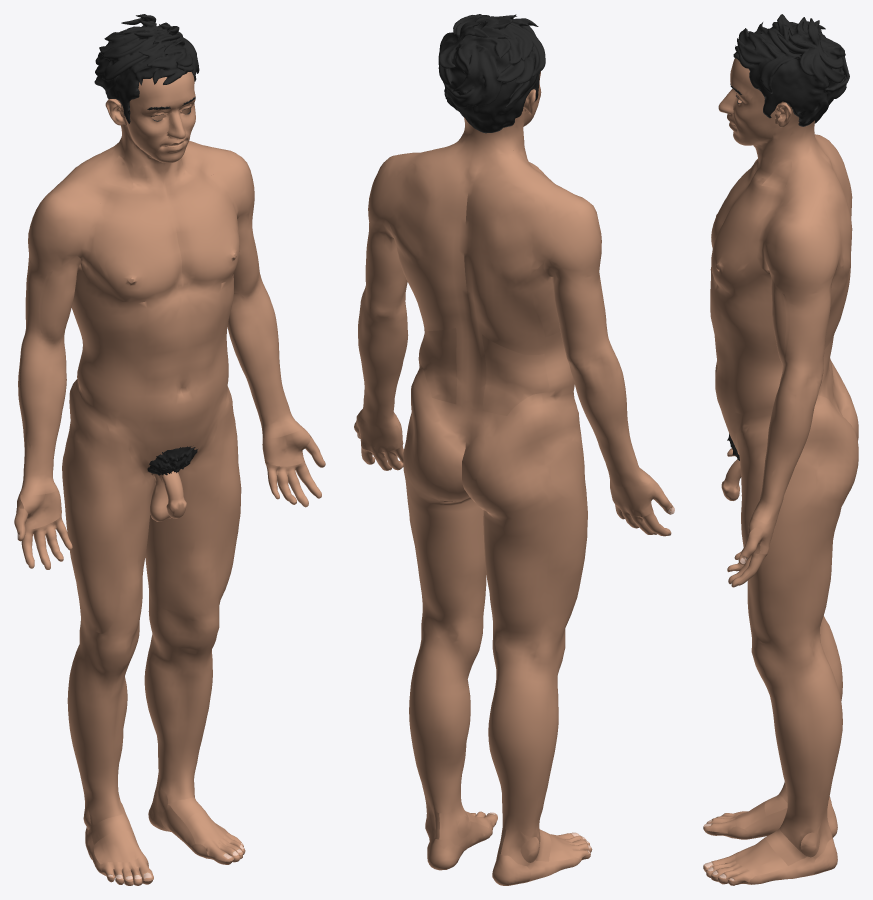
Rendered from z-anatomy-regions.glb.
3 views of the same model, side by side, from view 1: azimuth 30°, elevation 25°; view 2: azimuth 150°, elevation 25°; view 3: azimuth 270°, elevation 25° (orthographic). The views are drawn at different scales.
Parts seen in each view (by area): view 1: Anterior region of thigh.r.001, Anterior region of thigh.l.001, Hairs of head.001, Anterior region of leg.l.001, Anterior region of leg.r.001, Pectoral region.r.001, Deltoid region.r.001, Anterior region of forearm.l.001, Anterior region of forearm.r.001, Lateral region of thorax.r.001, Lateral region of abdomen.r.001, Pectoral region.l.001 (+46 smaller); view 2: Posterior region of thigh.r.001, Hairs of head.001, Gluteal region.r.001, Posterior region of thigh.l.001, Posterior region of leg.r.001, Posterior region of leg.l.001, Gluteal region.l.001, Scapular region.r.001, Posterior region of arm.r.001, Infrascapular region.r.001, Scapular region.l.001, Posterior region of forearm.r.001 (+32 smaller); view 3: Hairs of head.001, Anterior region of thigh.l.001, Posterior region of thigh.l.001, Deltoid region.l.001, Gluteal region.l.001, Posterior region of leg.l.001, Lateral region of thorax.l.001, Anterior region of leg.l.001, Lateral region of abdomen.l.001, Pectoral region.l.001, Posterior region of arm.l.001, Posterior region of neck.l.001 (+45 smaller).
Part boxes in pixels (x1,y1,x2,y2): Anterior region of thigh.r.001: (69, 382, 154, 636); Anterior region of thigh.l.001: (150, 383, 241, 615); Hairs of head.001: (94, 14, 199, 123); Anterior region of leg.l.001: (153, 654, 212, 780); Anterior region of leg.r.001: (74, 673, 127, 799); Pectoral region.r.001: (94, 205, 174, 302); Deltoid region.r.001: (28, 174, 90, 271); Anterior region of forearm.l.001: (228, 304, 292, 425); Anterior region of forearm.r.001: (22, 360, 66, 481); Lateral region of thorax.r.001: (71, 225, 147, 333); Lateral region of abdomen.r.001: (77, 342, 147, 422); Pectoral region.l.001: (183, 179, 238, 284); Posterior region of thigh.r.001: (483, 496, 579, 640); Hairs of head.001: (438, 14, 545, 133); Gluteal region.r.001: (462, 392, 567, 518); Posterior region of thigh.l.001: (404, 472, 485, 624); Posterior region of leg.r.001: (488, 688, 555, 830); Posterior region of leg.l.001: (409, 667, 468, 813); Gluteal region.l.001: (403, 360, 470, 501); Scapular region.r.001: (486, 191, 559, 287); Posterior region of arm.r.001: (543, 242, 606, 348); Infrascapular region.r.001: (475, 274, 545, 354); Scapular region.l.001: (379, 164, 436, 266); Posterior region of forearm.r.001: (570, 368, 640, 475); Hairs of head.001: (733, 14, 849, 126); Anterior region of thigh.l.001: (738, 407, 787, 646); Posterior region of thigh.l.001: (783, 506, 841, 645); Deltoid region.l.001: (763, 197, 834, 297); Gluteal region.l.001: (798, 395, 858, 509); Posterior region of leg.l.001: (798, 679, 842, 822); Lateral region of thorax.l.001: (715, 229, 846, 343); Anterior region of leg.l.001: (770, 696, 806, 822); Lateral region of abdomen.l.001: (723, 347, 782, 414); Pectoral region.l.001: (711, 197, 769, 291); Posterior region of arm.l.001: (799, 248, 839, 364); Posterior region of neck.l.001: (784, 120, 834, 199).
Bounding box in the file's own units: 0.6801 × 1.74 × 0.294.
